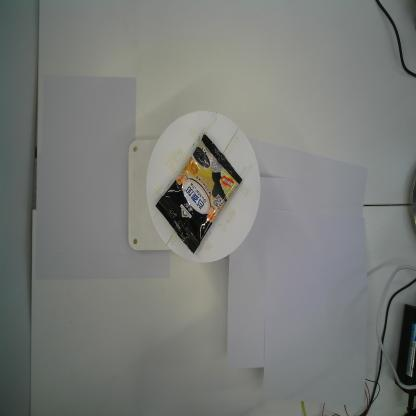Instant Drink: (154, 132, 243, 255)
